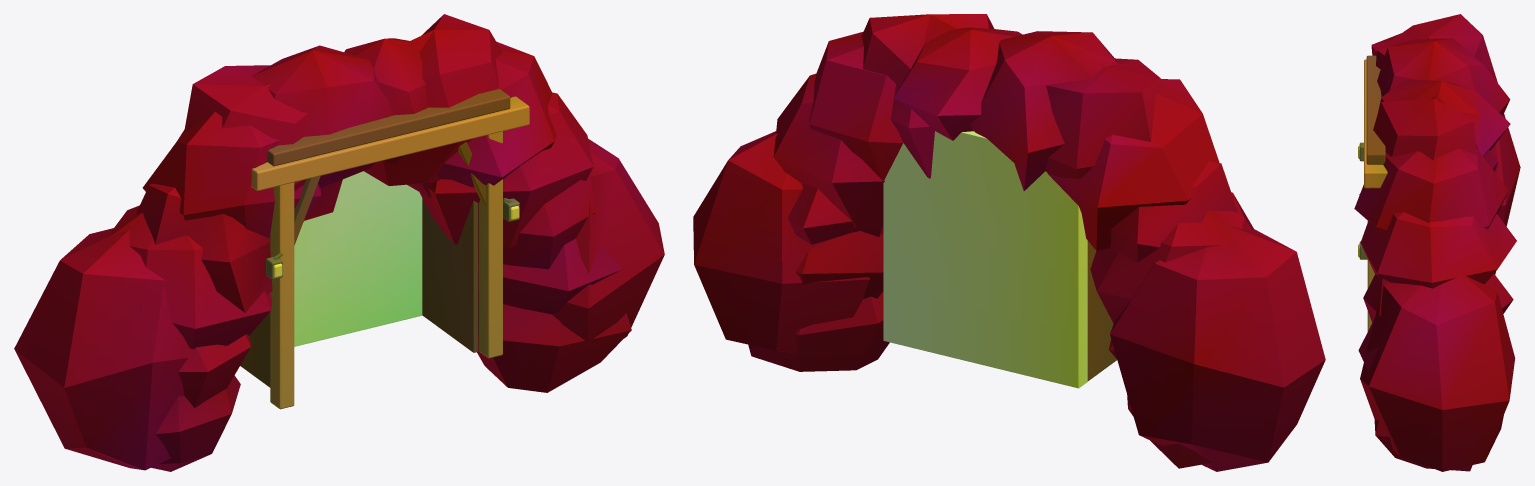
The model's file is Mine_Entrance_01.fbx.
3 views of the same model, side by side, from view 1: azimuth 30°, elevation 25°; view 2: azimuth 150°, elevation 25°; view 3: azimuth 270°, elevation 25° (orthographic). The views are drawn at different scales.
Parts seen in each view (by area): view 1: Mine_Entrance_01; view 2: Mine_Entrance_01; view 3: Mine_Entrance_01.
Part boxes in pixels (box(x1,y1,x2,y2)): Mine_Entrance_01: box(14, 14, 664, 471); Mine_Entrance_01: box(693, 14, 1325, 471); Mine_Entrance_01: box(1354, 14, 1520, 471).
Bounding box in the file's own units: 13.97 × 8.41 × 3.84.
